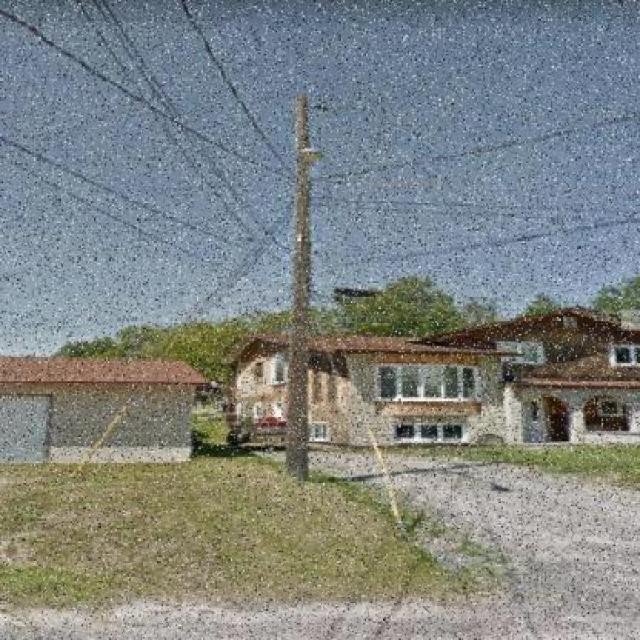pole: (184, 52, 384, 526)
